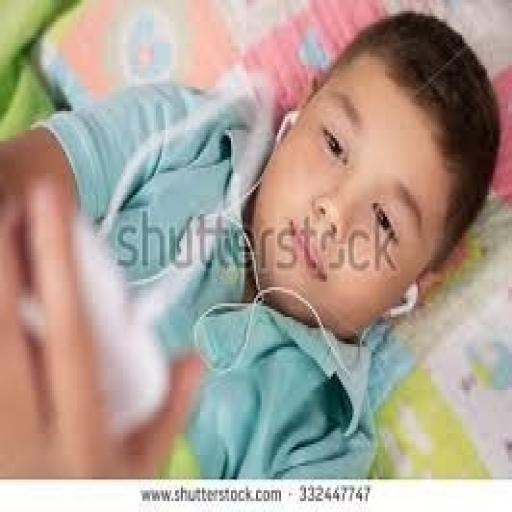listening_to_music: (0, 5, 502, 479)
